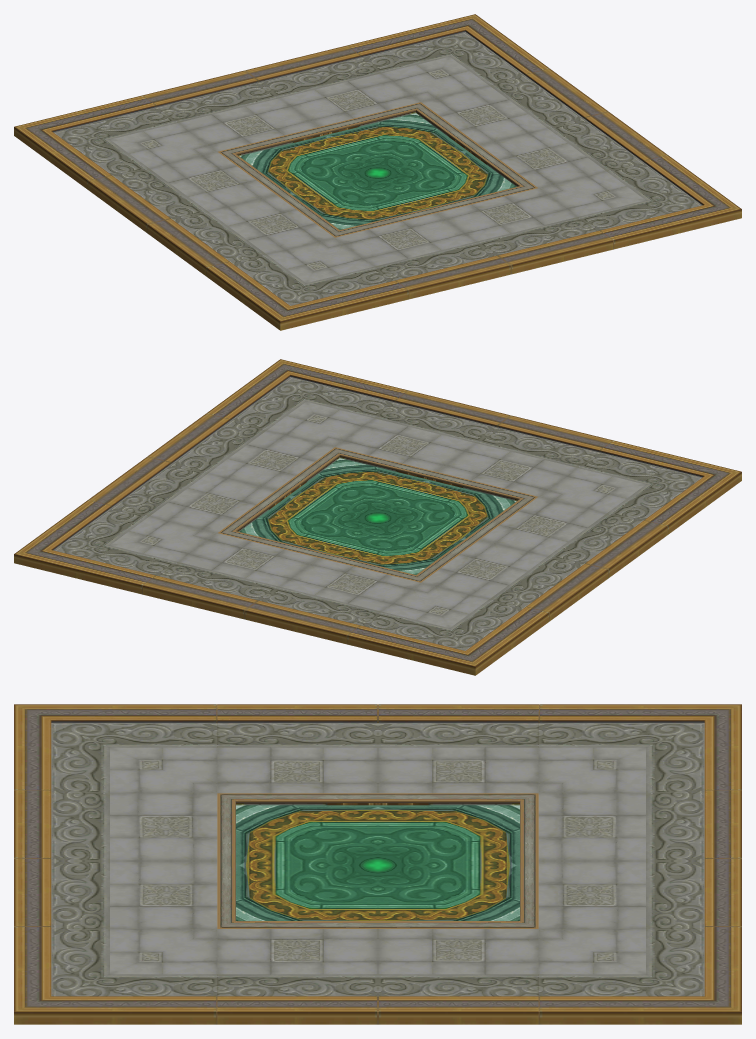
File: Yland1_tz_01 Yland1.FBX
3 views of the same model, one above another, from view 1: azimuth 30°, elevation 25°; view 2: azimuth 150°, elevation 25°; view 3: azimuth 270°, elevation 25° (orthographic). The views are drawn at different scales.
Parts seen in each view (by area): view 1: Yland1_tz_01 Yland1; view 2: Yland1_tz_01 Yland1; view 3: Yland1_tz_01 Yland1.
Boxes of the visible parts, bbox=[...] form: Yland1_tz_01 Yland1: bbox=[14, 14, 741, 330]; Yland1_tz_01 Yland1: bbox=[14, 359, 741, 675]; Yland1_tz_01 Yland1: bbox=[14, 704, 741, 1024].
Size of the model in its own units: 20.78 by 0.3895 by 20.78.
